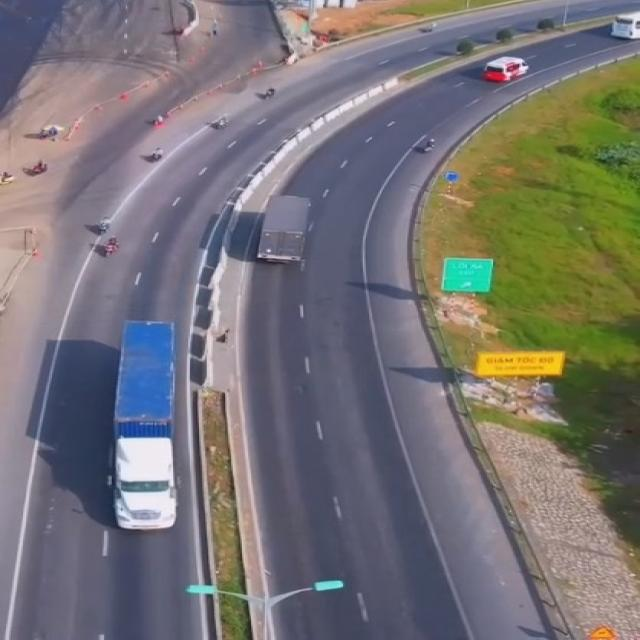bus: (482, 57, 528, 86)
truck: (112, 318, 179, 534), (259, 195, 312, 266)
